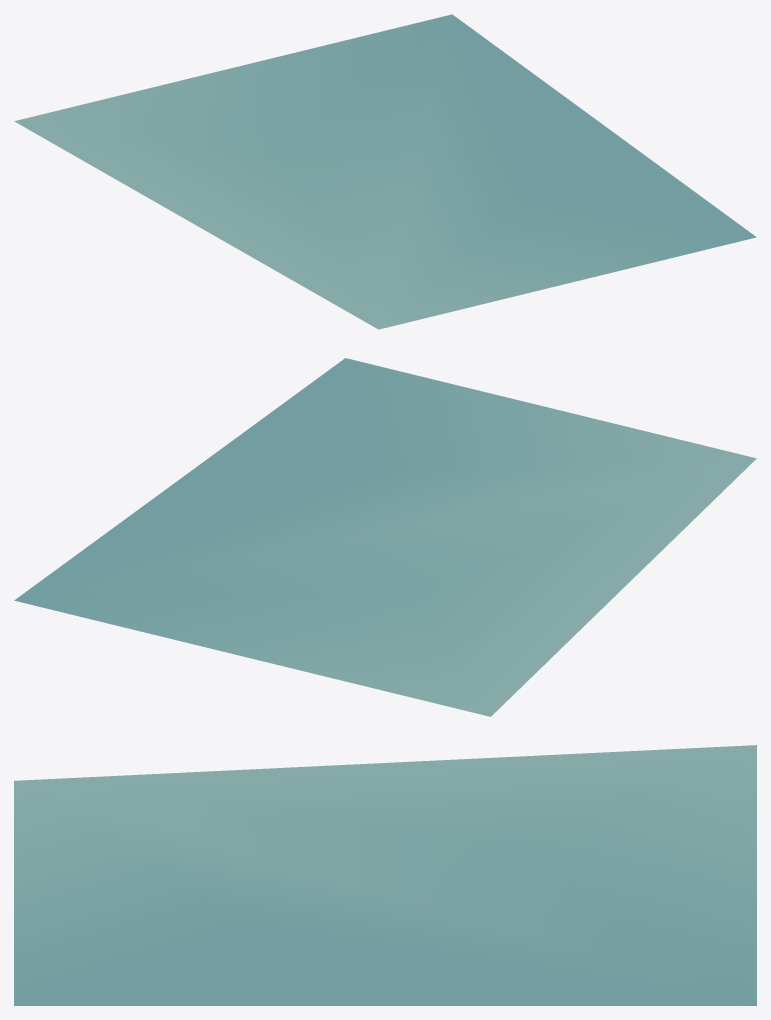
The model's file is water-24-7.glb.
3 views of the same model, one above another, from view 1: azimuth 30°, elevation 25°; view 2: azimuth 150°, elevation 25°; view 3: azimuth 270°, elevation 25° (orthographic). The views are drawn at different scales.
Size of the model in its own units: 13.29 by 0 by 16.
